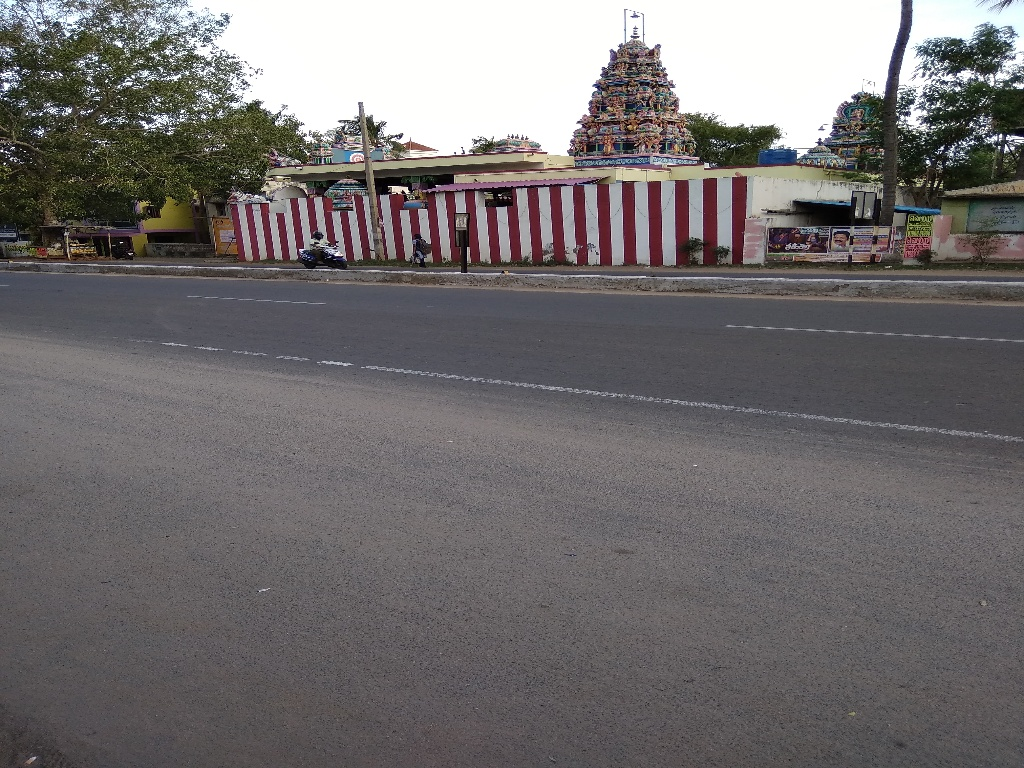biker: (290, 208, 355, 274)
helmet: (309, 225, 332, 247)
